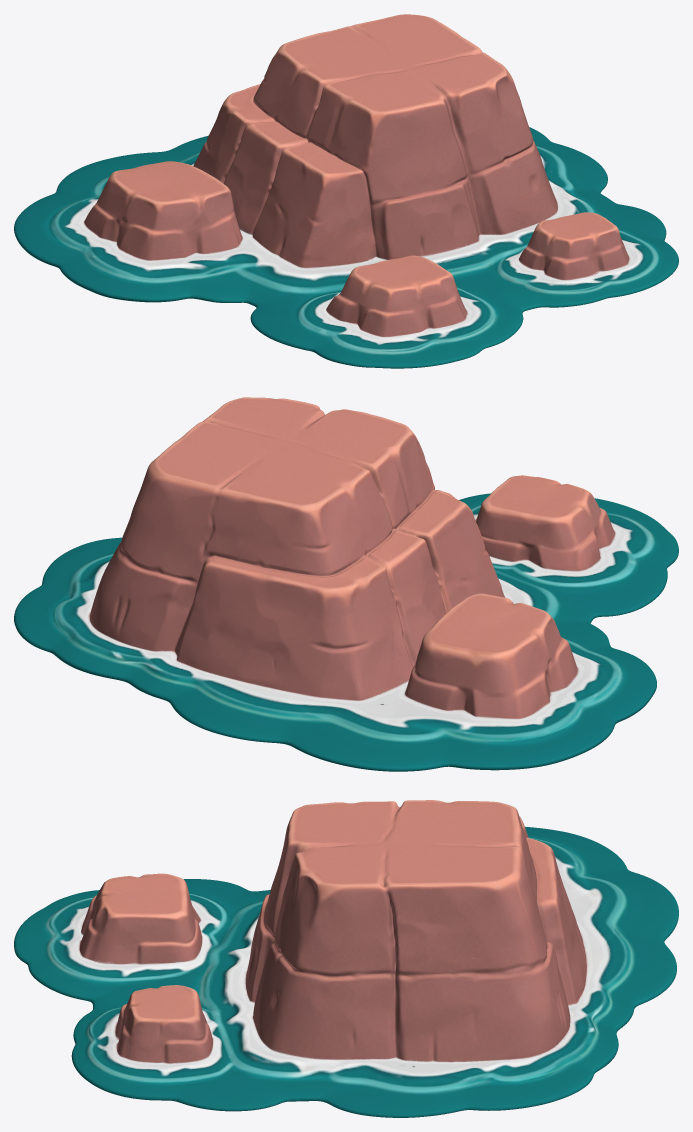
Rendered from granite-rock-islet-bare-01.glb.
The picture shows the model from 3 angles, top to bottom: view 1: azimuth 30°, elevation 25°; view 2: azimuth 150°, elevation 25°; view 3: azimuth 270°, elevation 25°; orthographic projection. The views are drawn at different scales.
Size of the model in its own units: 1.9 by 0.5119 by 1.85.
Materials: 1 (1 with a texture image).
